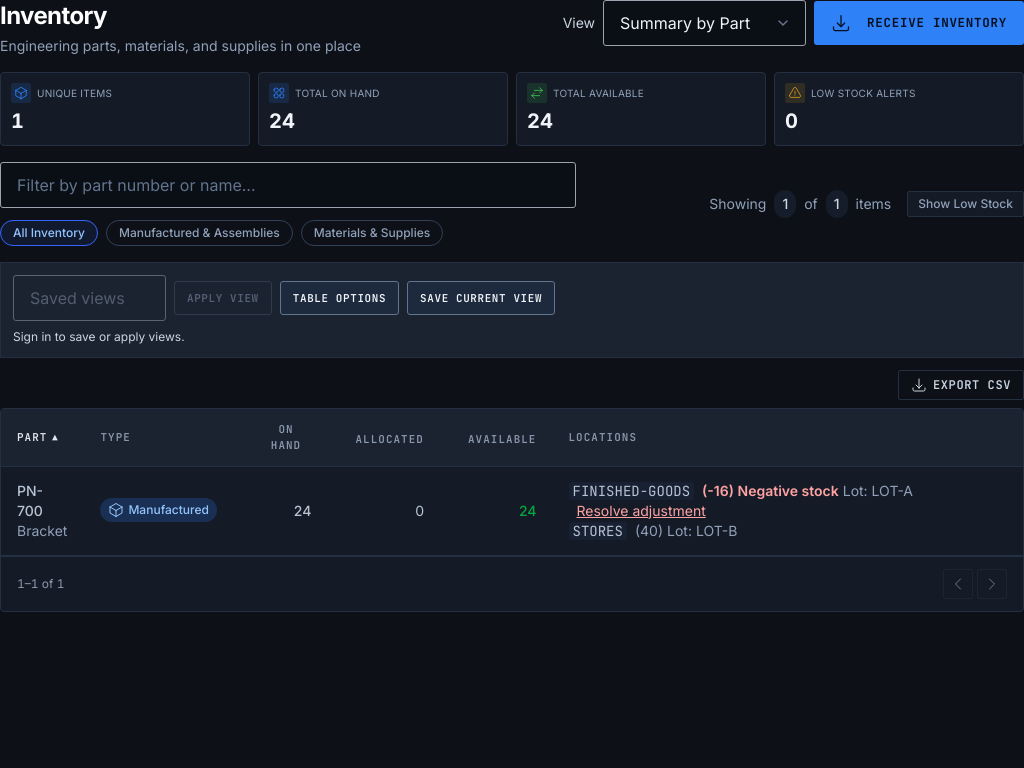
Scenario: flags negative summary locations on desktop and mobile and opens the exact lot for an audited adjustment
Click the button "Resolve adjustment": click(641, 511) [576,501,706,521]
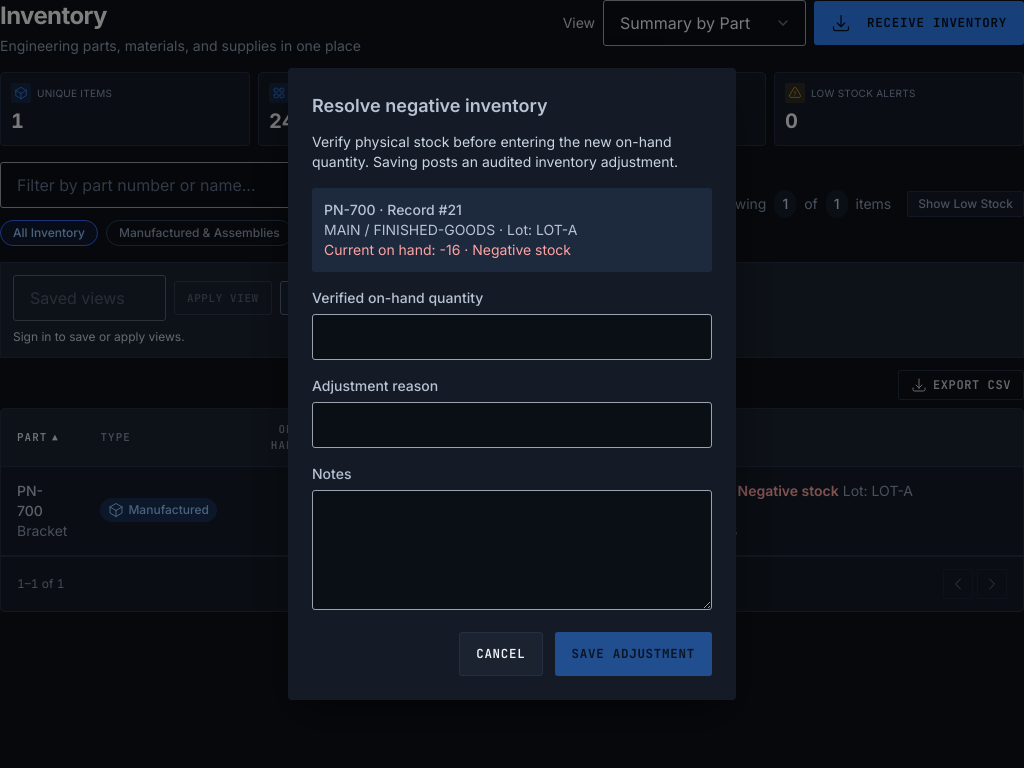
Check: the dialog "Resolve negative inventory" shows "PN-700 · Record #21", box [288,68,736,700]
Check: the dialog "Resolve negative inventory" shows "MAIN / FINISHED-GOODS · Lot: LOT-A", box [288,68,736,700]
Check: the dialog "Resolve negative inventory" shows "Current on hand: -16", box [288,68,736,700]
In the number field labelled "Verified on-hand quantity": (512, 337) [312,314,712,360], type "5"
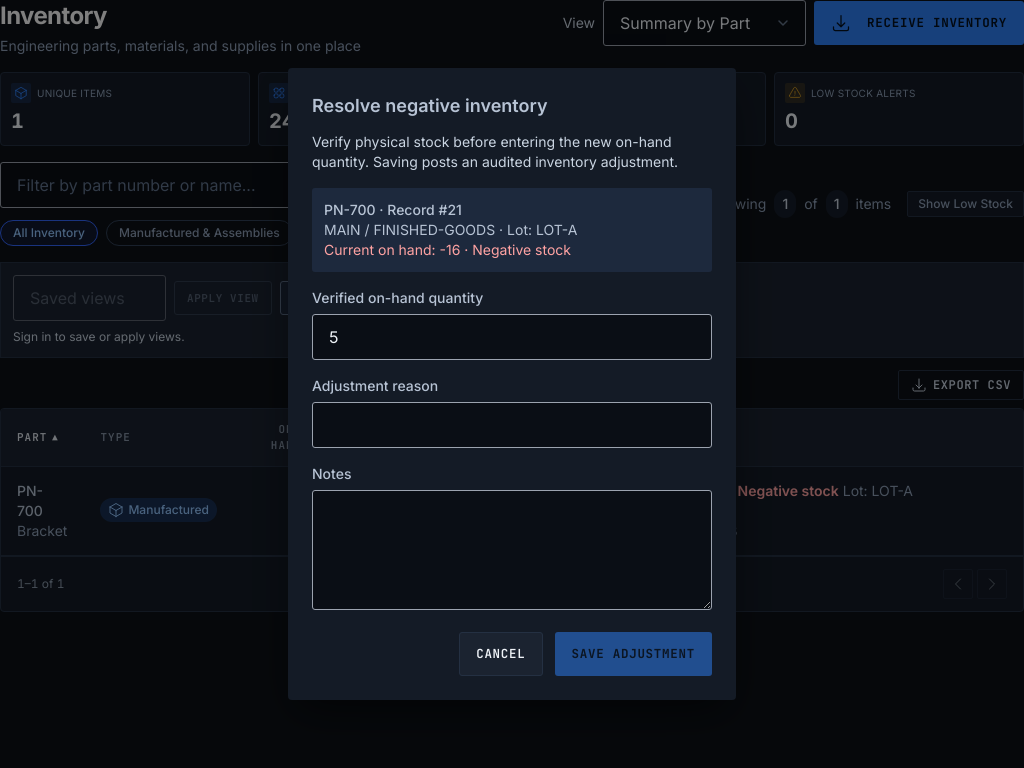
In the field labelled "Adjustment reason": (512, 425) [312,402,712,448], type "Physical count verified"
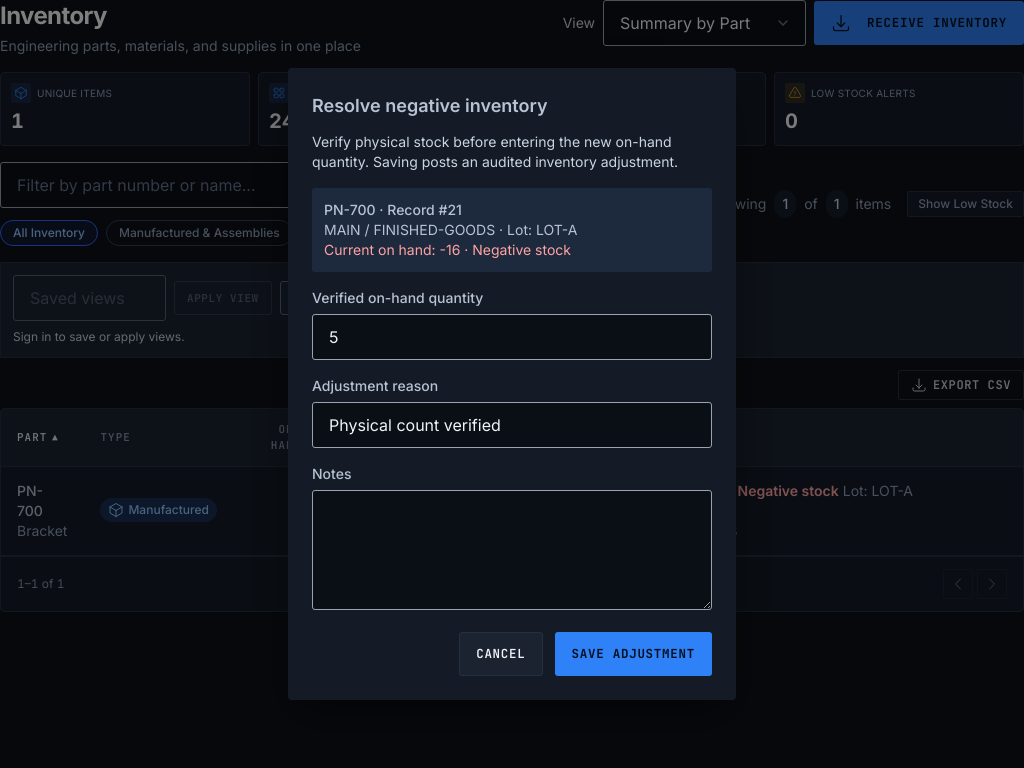
Click the button "Save adjustment": click(633, 654) [554,632,712,676]
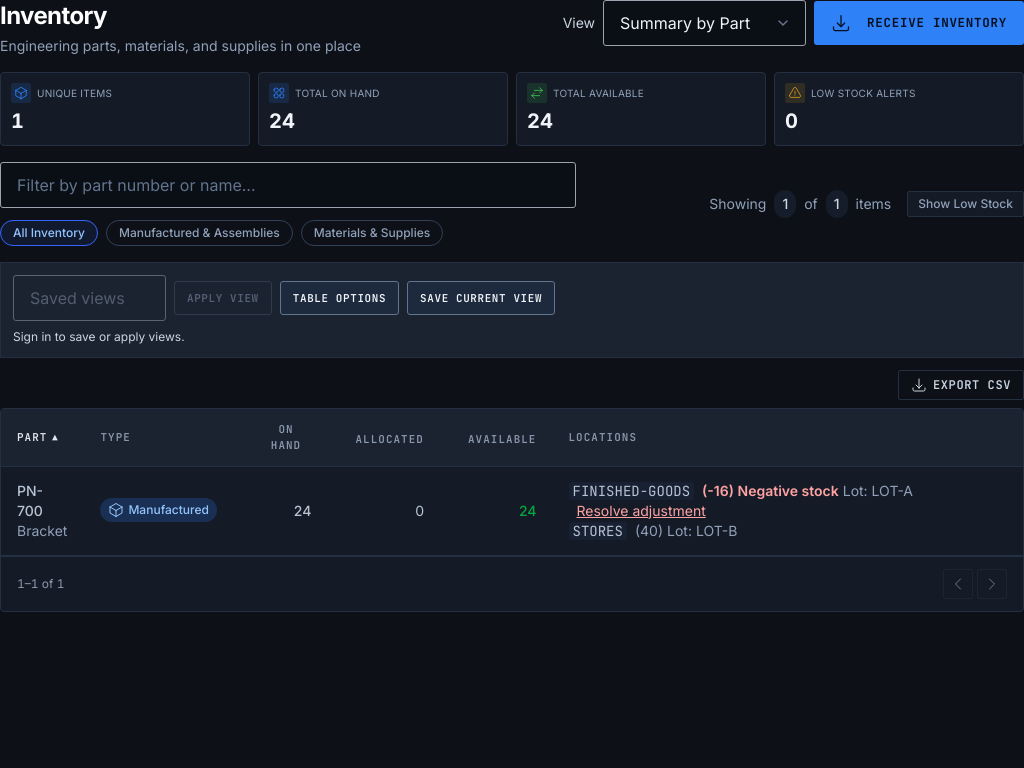
Check: the dialog is gone
